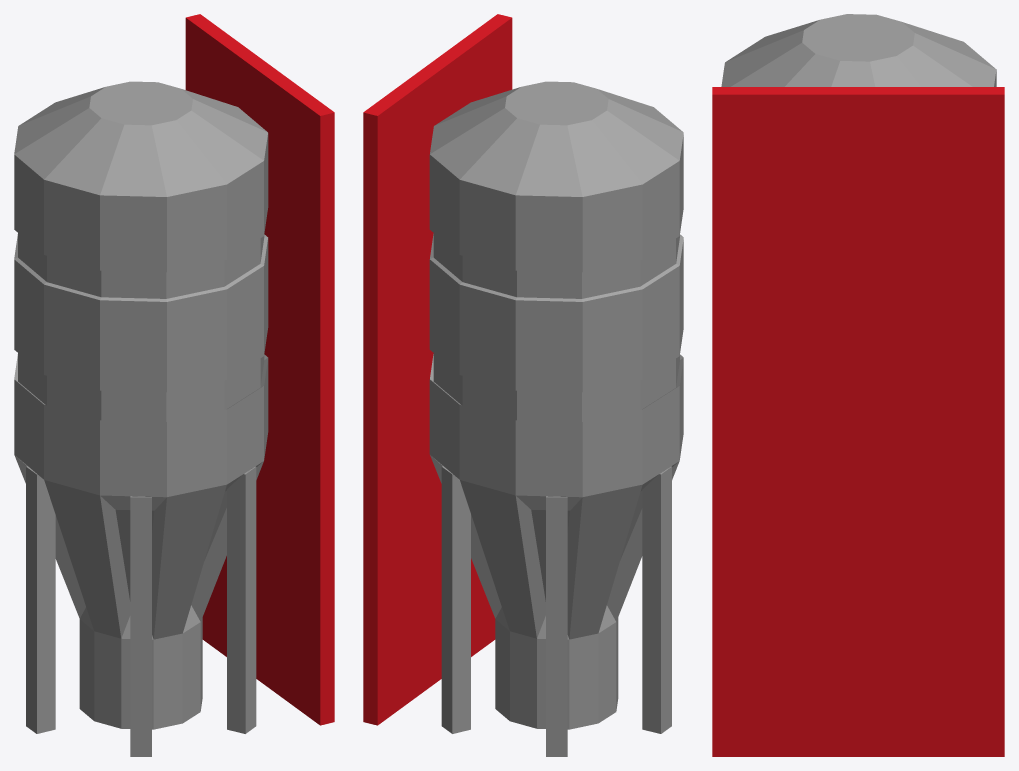
The model's file is silo_tex.fbx.
3 views of the same model, side by side, from view 1: azimuth 30°, elevation 25°; view 2: azimuth 150°, elevation 25°; view 3: azimuth 270°, elevation 25° (orthographic). The views are drawn at different scales.
Parts seen in each view (by area): view 1: silo_text, Cube.085, Cube.082; view 2: silo_text, Cube.085, Cube.082; view 3: Cube.085, Cube.082, silo_text.
Boxes of the visible parts, left/top/right/bottom form: silo_text: left=14, top=81, right=268, bottom=756; Cube.085: left=185, top=14, right=334, bottom=420; Cube.082: left=202, top=383, right=334, bottom=725; silo_text: left=429, top=81, right=683, bottom=756; Cube.085: left=363, top=14, right=512, bottom=420; Cube.082: left=363, top=383, right=495, bottom=725; Cube.085: left=712, top=87, right=1004, bottom=425; Cube.082: left=712, top=426, right=1004, bottom=756; silo_text: left=721, top=14, right=996, bottom=86.
Size of the model in its own units: 457 by 1125 by 450.
